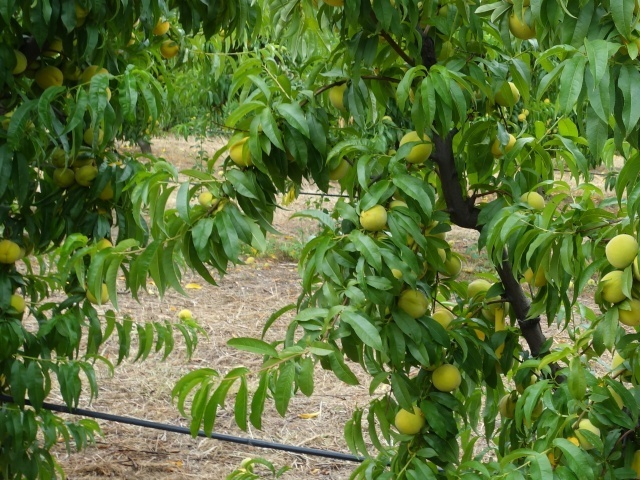peach: (504, 1, 540, 42), (396, 129, 435, 165), (566, 416, 605, 452), (427, 360, 463, 398), (395, 285, 430, 321), (597, 269, 631, 306), (224, 132, 257, 170), (392, 403, 427, 437), (357, 200, 390, 235), (480, 292, 513, 325), (519, 260, 551, 292), (34, 64, 67, 94), (77, 61, 112, 89), (492, 79, 524, 109), (464, 277, 494, 308), (614, 294, 640, 329), (515, 187, 548, 214), (490, 131, 519, 159), (81, 279, 110, 307), (439, 250, 466, 280), (496, 390, 523, 419), (48, 165, 77, 191), (8, 45, 30, 78), (326, 80, 351, 109), (73, 162, 100, 187), (428, 309, 456, 333), (1, 235, 20, 268), (80, 125, 107, 148), (46, 148, 73, 171), (150, 14, 174, 39), (157, 37, 181, 62), (5, 292, 27, 315), (194, 191, 219, 211)
